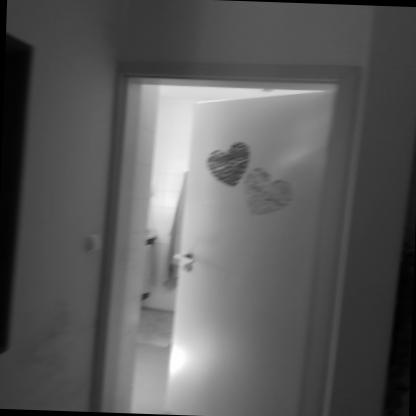semi: (73, 41, 380, 416)
